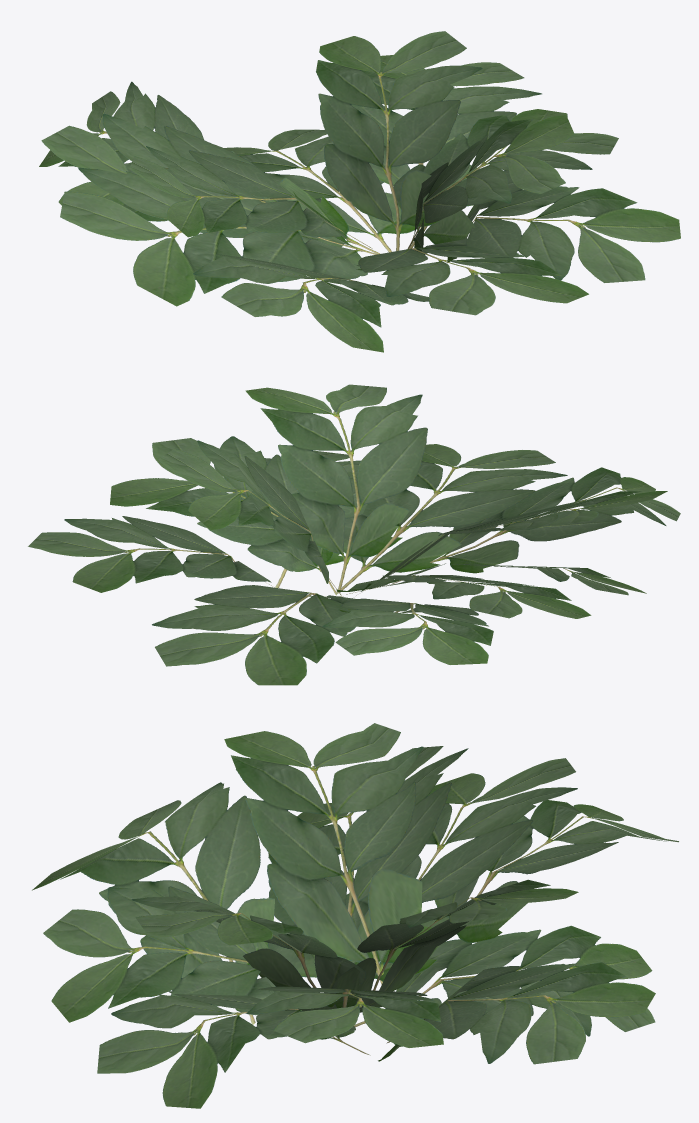
Rendered from Plant.FBX.
The picture shows the model from 3 angles, top to bottom: view 1: azimuth 30°, elevation 25°; view 2: azimuth 150°, elevation 25°; view 3: azimuth 270°, elevation 25°; orthographic projection. The views are drawn at different scales.
Parts seen in each view (by area): view 1: Plant; view 2: Plant; view 3: Plant.
Boxes of the visible parts, box(x1,y1,x2,y2) form: Plant: box(39, 31, 680, 352); Plant: box(28, 384, 680, 685); Plant: box(32, 723, 678, 1108).
Size of the model in its own units: 49.64 by 14.58 by 46.17.
